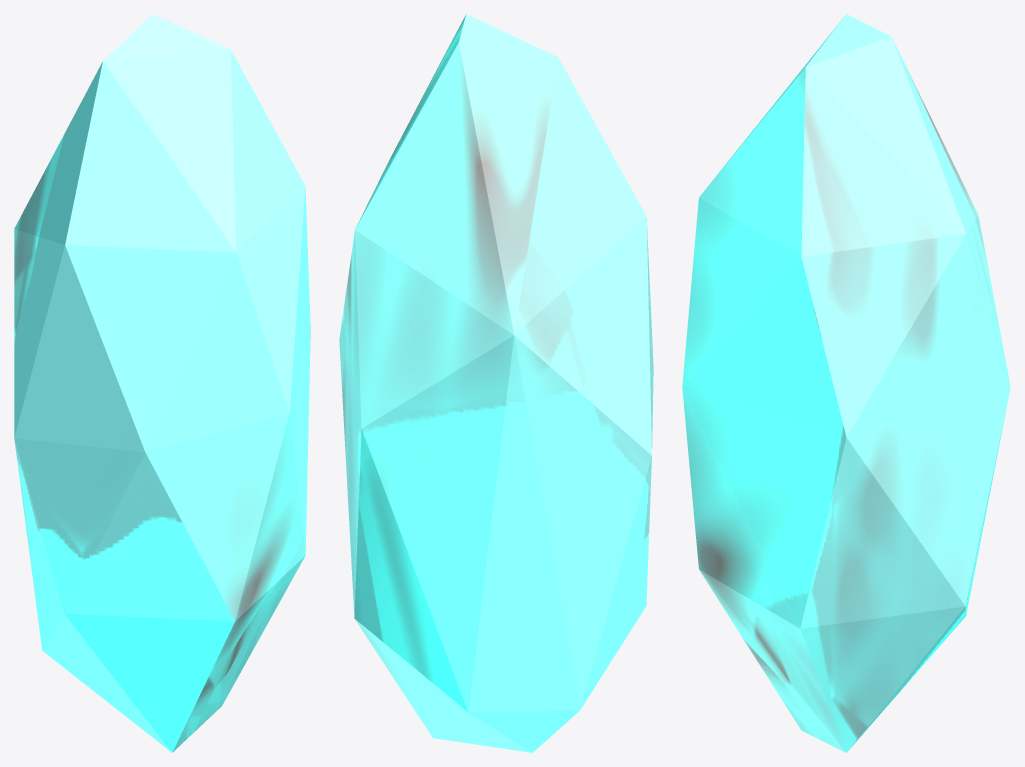
The model's file is crystal.glb.
3 views of the same model, side by side, from view 1: azimuth 30°, elevation 25°; view 2: azimuth 150°, elevation 25°; view 3: azimuth 270°, elevation 25° (orthographic). The views are drawn at different scales.
Visible parts, largest first — view 1: Icosphere.004; view 2: Icosphere.004; view 3: Icosphere.004.
Boxes of the visible parts, box(x1,y1,x2,y2) form: Icosphere.004: box(14, 14, 310, 752); Icosphere.004: box(339, 14, 653, 752); Icosphere.004: box(682, 14, 1010, 752).
Bounding box in the file's own units: 2.09 × 4.71 × 1.99.
